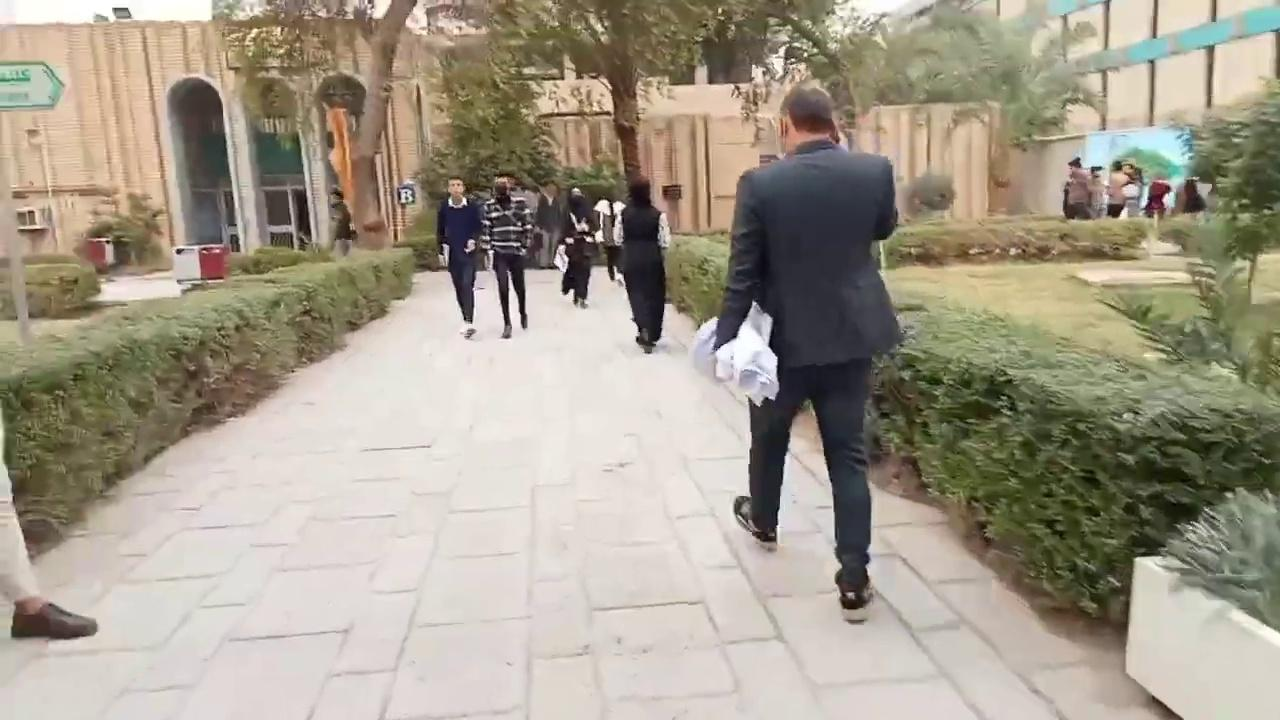person: (711, 84, 903, 622), (0, 458, 98, 639), (615, 173, 671, 353), (479, 171, 535, 338), (435, 175, 485, 335), (557, 187, 600, 308), (533, 177, 564, 269), (328, 185, 354, 257)
tree: (865, 288, 1277, 628), (1, 240, 415, 557), (730, 0, 1107, 216), (483, 0, 759, 190), (213, 0, 417, 255), (853, 0, 1109, 153), (1123, 485, 1278, 718), (1180, 73, 1279, 372), (729, 0, 892, 152), (413, 37, 562, 202), (2, 250, 102, 316), (894, 167, 956, 223)
